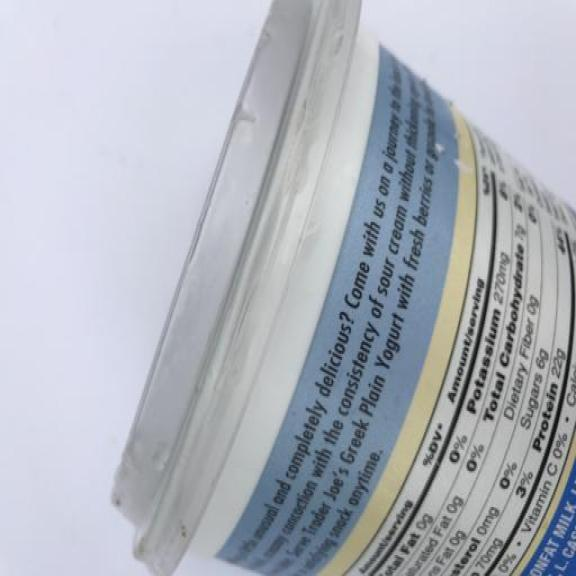Plastik: (109, 1, 576, 576)
